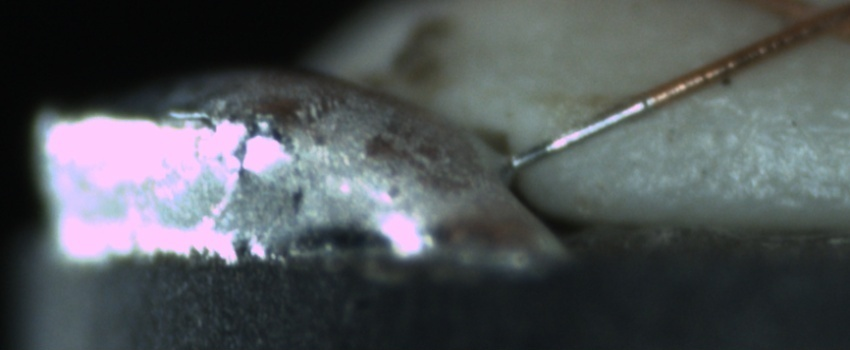CL: (767, 2, 843, 45)
TS: (506, 95, 657, 167)
